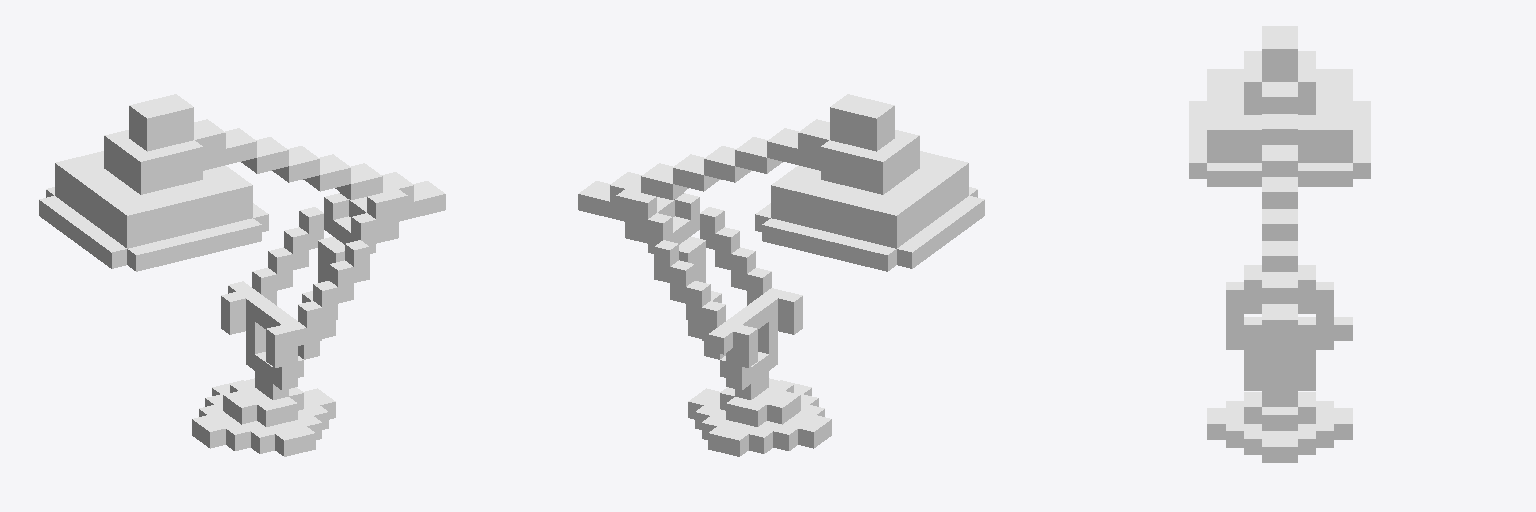
File: DeskLamp.obj
The picture shows the model from 3 angles: view 1: azimuth 30°, elevation 25°; view 2: azimuth 150°, elevation 25°; view 3: azimuth 270°, elevation 25°; orthographic projection.
Parts seen in each view (by area): view 1: CupboardBigDoor; view 2: CupboardBigDoor; view 3: CupboardBigDoor.
Part boxes in pixels (left/top/right/bottom): CupboardBigDoor: left=39, top=94, right=445, bottom=456; CupboardBigDoor: left=578, top=94, right=984, bottom=456; CupboardBigDoor: left=1189, top=26, right=1370, bottom=462.
Size of the model in its own units: 2.3 by 2.1 by 1.